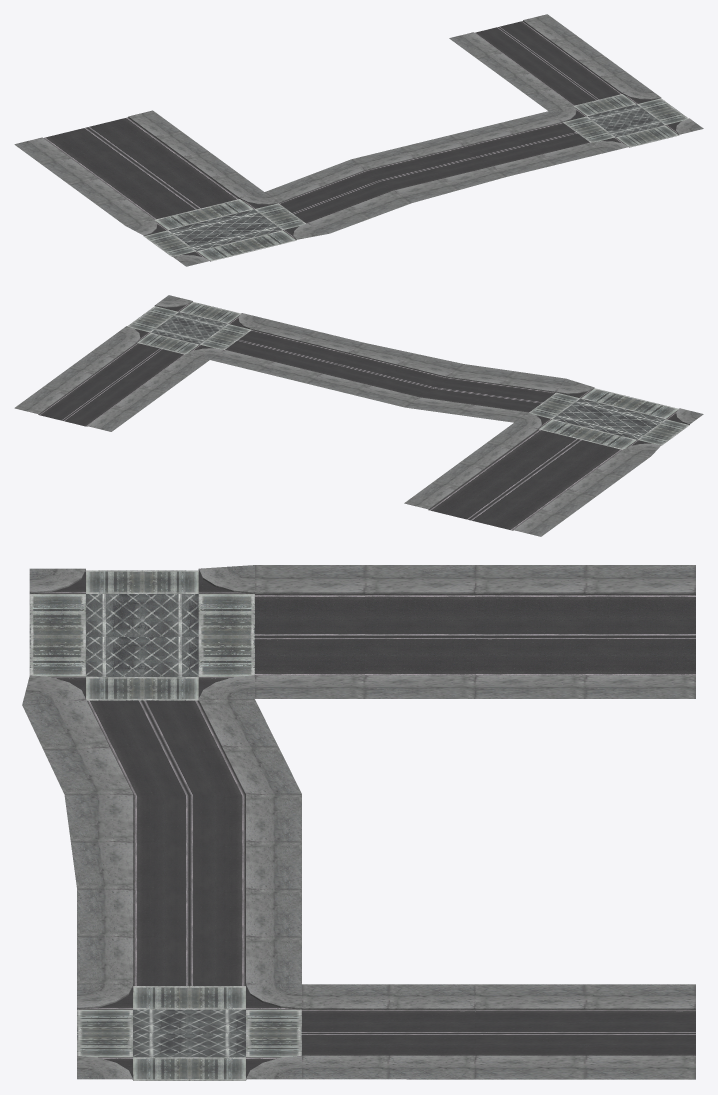
Rendered from roadssfse37.obj.
3 renders of one model, top to bottom at view 1: azimuth 30°, elevation 25°; view 2: azimuth 150°, elevation 25°; view 3: azimuth 270°, elevation 25°, orthographic. The views are drawn at different scales.
Visible parts, largest first — view 1: roadsSFSE37; view 2: roadsSFSE37; view 3: roadsSFSE37.
Boxes of the visible parts, left/top/right/bottom form: roadsSFSE37: left=14, top=14, right=703, bottom=266; roadsSFSE37: left=14, top=295, right=703, bottom=536; roadsSFSE37: left=22, top=565, right=695, bottom=1080.
Size of the model in its own units: 108 by 0.1501 by 59.88.
4 materials, 4 textured.
